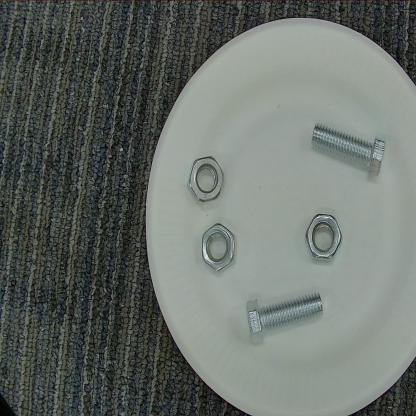FOD: (307, 115, 390, 182), (239, 289, 328, 346), (198, 218, 243, 280), (303, 209, 344, 274), (188, 152, 228, 212)
